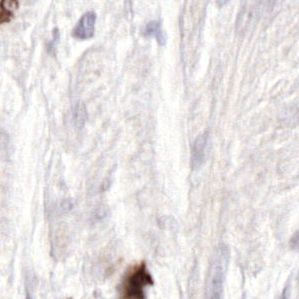Lymphocyte: (123, 262, 155, 297)
